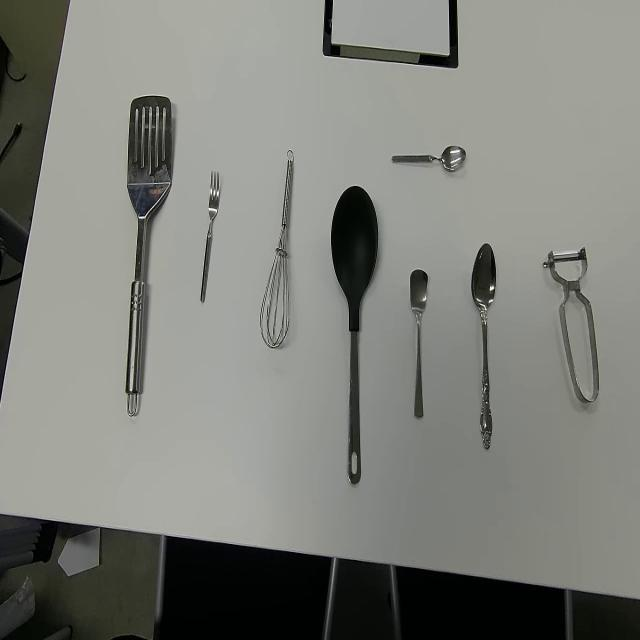Desert-Spoon: (470, 242, 498, 454)
Dinner-Fork: (199, 167, 221, 303)
Peeler: (542, 244, 600, 405)
Serving-Spoon: (124, 93, 174, 420), (330, 183, 380, 490)
Tea-Spoon: (409, 266, 429, 422), (391, 142, 467, 174)
Whisk: (259, 148, 295, 353)
